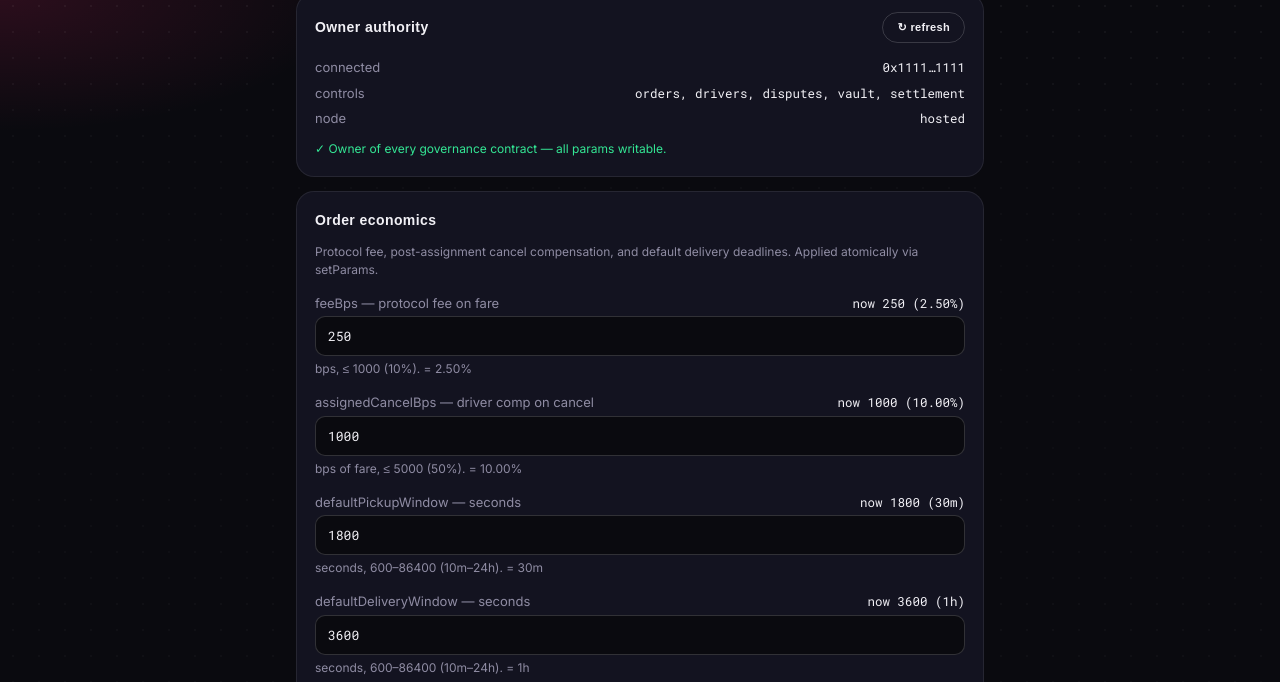
Scenario: the cleared-field regression, at the DOM › disables Save for a value past the contract's cap
The image size is (1280, 682).
Replace the text in the field below "feeBps — protocol fee on fare" with "1001": (640, 336) [315,316,965,356]
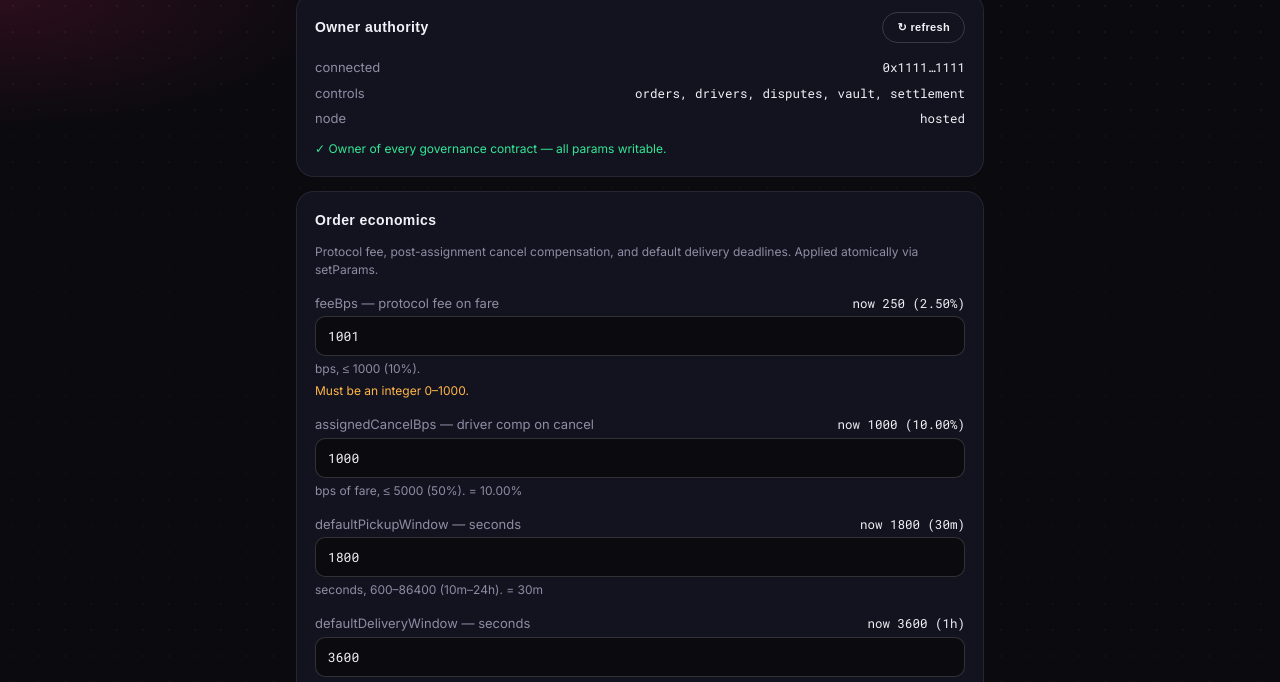
expect the text "Must be an integer 0–1000." is shown: met, box [315,383,469,398]
Replace the text in the field below "feeBps — protocol fee on fare" with "1000": (640, 336) [315,316,965,356]
(page scrolled)
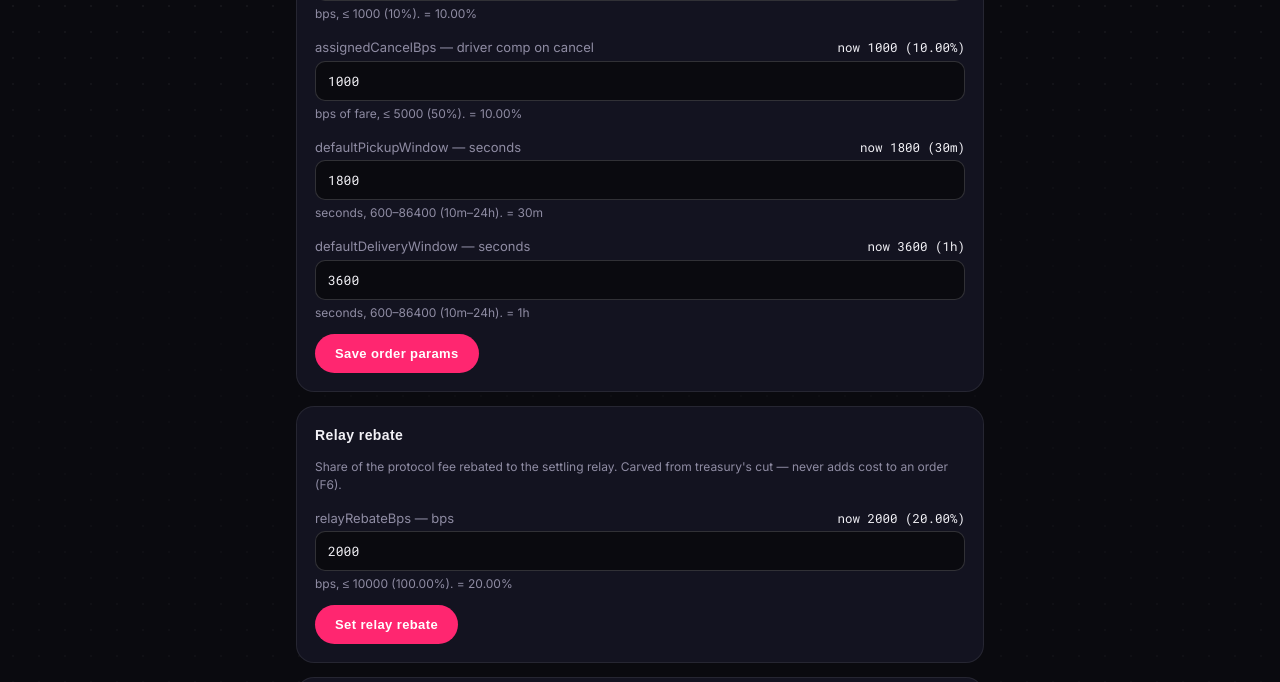
expect the button "Save order params" is enabled: met, box [315,334,479,372]
